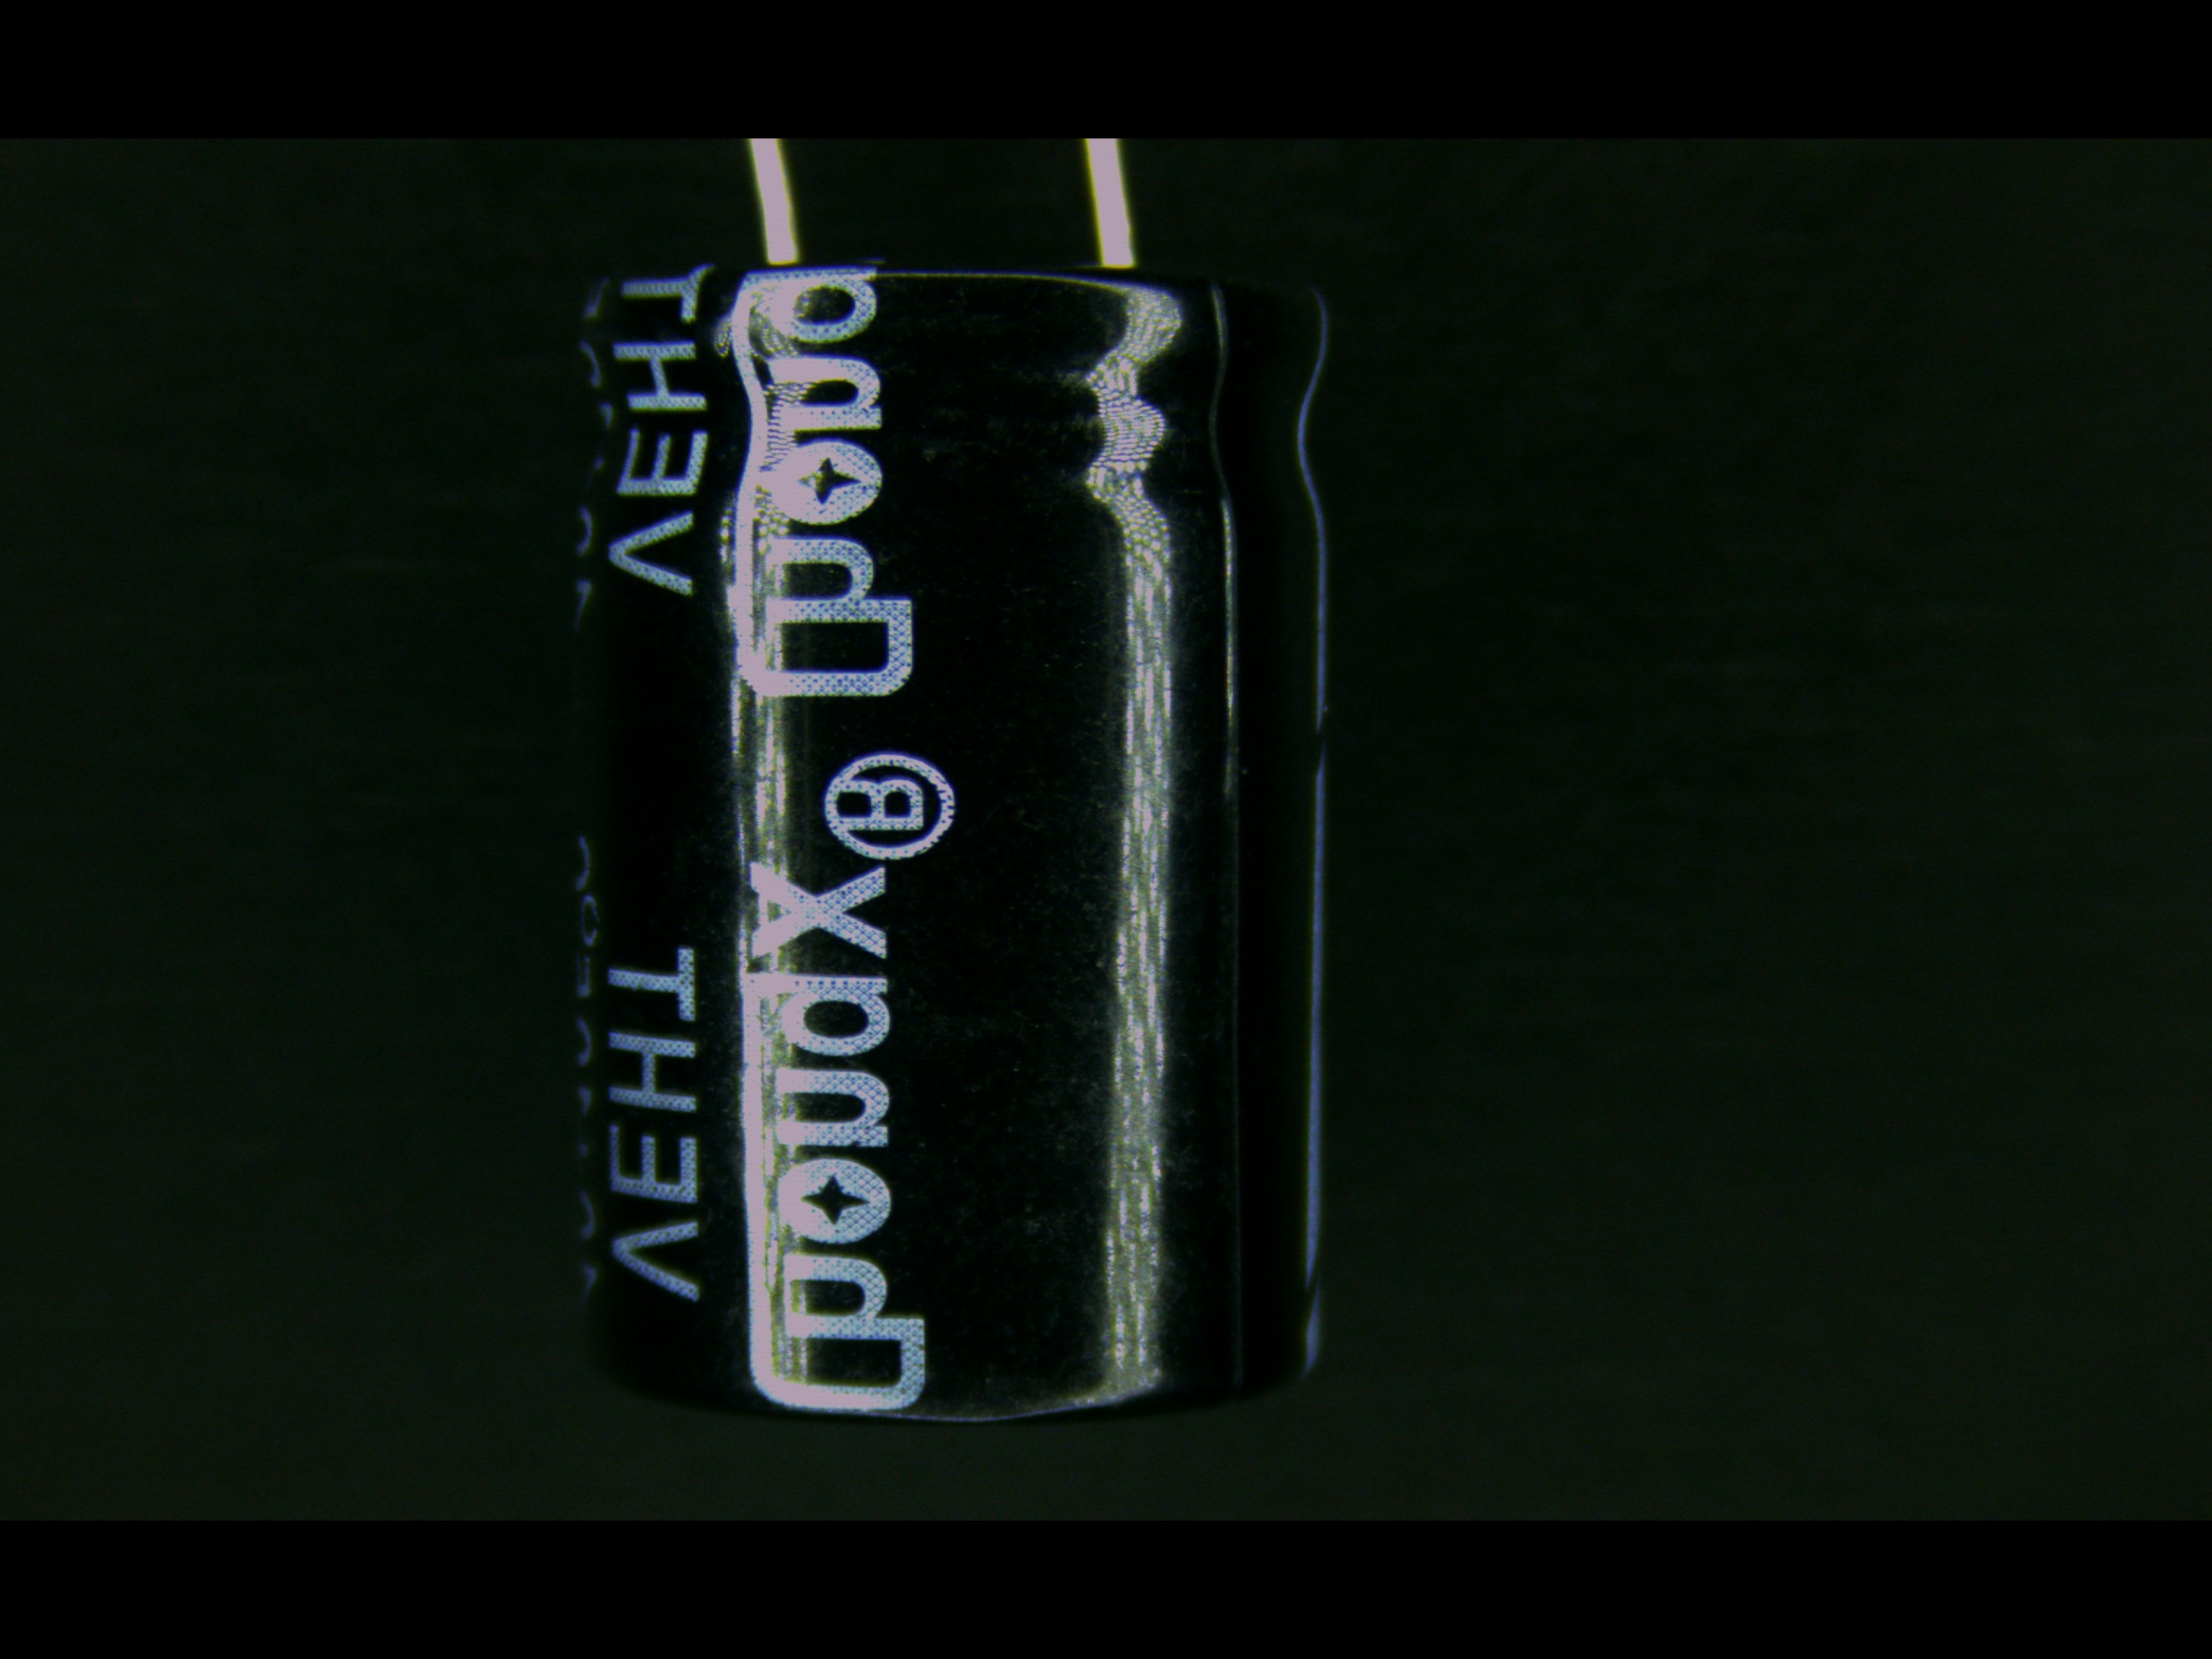c3: (545, 244, 1346, 1431)
